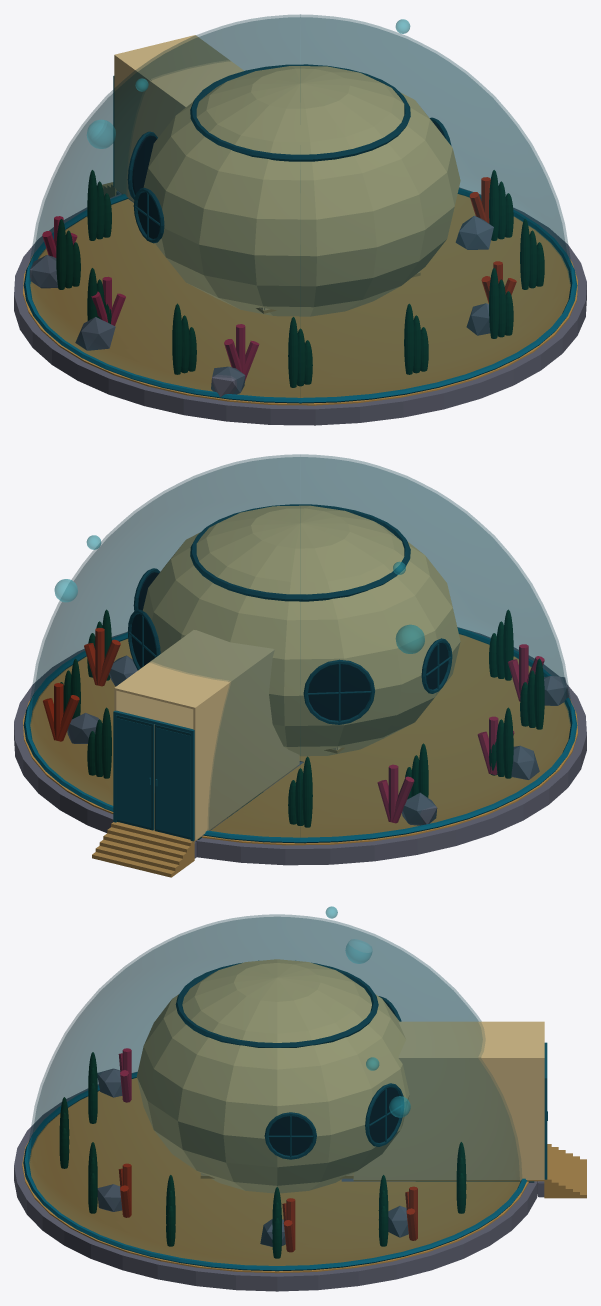
The model's file is fishbowl-house-visual.obj.
3 views of the same model, one above another, from view 1: azimuth 30°, elevation 25°; view 2: azimuth 150°, elevation 25°; view 3: azimuth 270°, elevation 25° (orthographic). The views are drawn at different scales.
Parts seen in each view (by area): view 1: AquariumShell_01, PodShell, Foundation, CoralGarden, DomeRim_01, WalkPassageCeiling, WalkPassageRight, PodWindows, HouseFX_Bubble_3_01; view 2: AquariumShell_01, PodShell, Foundation, CoralGarden, WalkPassageRight, PodWindows, WalkPassageCeiling, DomeRim_01, HouseDoorLeaf_R_Panel, HouseDoorLeaf_L_Panel, WalkPassageLeft, HouseDoorLeaf_L (+8 smaller); view 3: AquariumShell_01, Foundation, PodShell, WalkPassageLeft, CoralGarden, WalkPassageCeiling, PodWindows, DomeRim_01, HouseFX_Bubble_3_01.
Boxes of the visible parts, box(x1,y1,x2,y2) form: AquariumShell_01: box(29, 14, 571, 397); PodShell: box(143, 64, 460, 316); Foundation: box(14, 187, 586, 425); CoralGarden: box(30, 170, 544, 397); DomeRim_01: box(23, 188, 577, 403); WalkPassageCeiling: box(114, 35, 243, 107); WalkPassageRight: box(114, 57, 184, 201); PodWindows: box(127, 117, 451, 243); HouseFX_Bubble_3_01: box(86, 119, 115, 148); AquariumShell_01: box(29, 454, 571, 837); PodShell: box(143, 504, 460, 756); Foundation: box(14, 627, 586, 865); CoralGarden: box(43, 609, 569, 827); WalkPassageRight: box(193, 652, 299, 840); PodWindows: box(128, 568, 452, 724); WalkPassageCeiling: box(114, 630, 274, 709); DomeRim_01: box(23, 628, 577, 843); HouseDoorLeaf_R_Panel: box(156, 727, 190, 837); HouseDoorLeaf_L_Panel: box(117, 718, 151, 827); WalkPassageLeft: box(114, 690, 193, 792); HouseDoorLeaf_L: box(116, 715, 154, 830); AquariumShell_01: box(28, 914, 521, 1265); Foundation: box(14, 1072, 537, 1291); PodShell: box(136, 959, 409, 1193); WalkPassageLeft: box(353, 1060, 544, 1179); CoralGarden: box(59, 1048, 466, 1258); WalkPassageCeiling: box(398, 1021, 544, 1059); PodWindows: box(264, 996, 403, 1159); DomeRim_01: box(23, 1072, 527, 1271); HouseFX_Bubble_3_01: box(345, 939, 372, 963).
Size of the model in its own units: 50.57 by 25.76 by 55.04.
